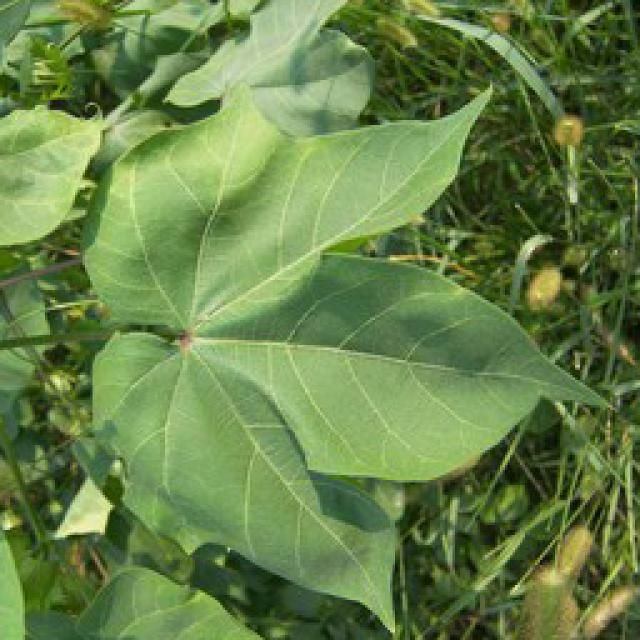Healthy Leaf: (34, 15, 574, 613)
